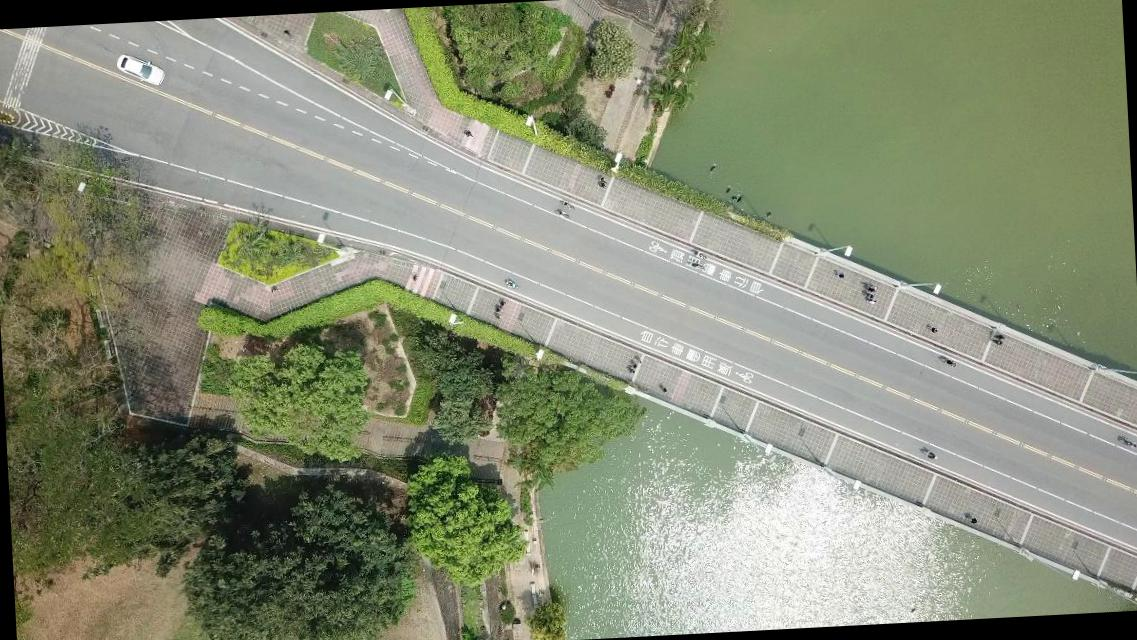vehicle: (114, 51, 164, 88)
